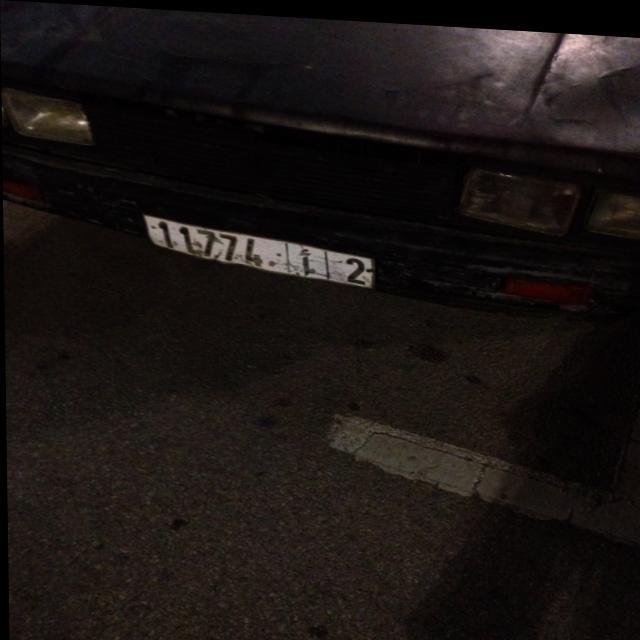License-Plate: (142, 213, 374, 283)
